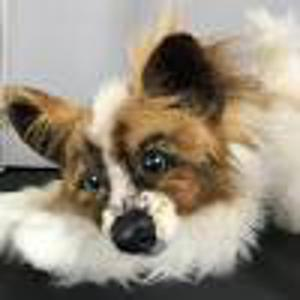yell: (0, 22, 299, 256)
